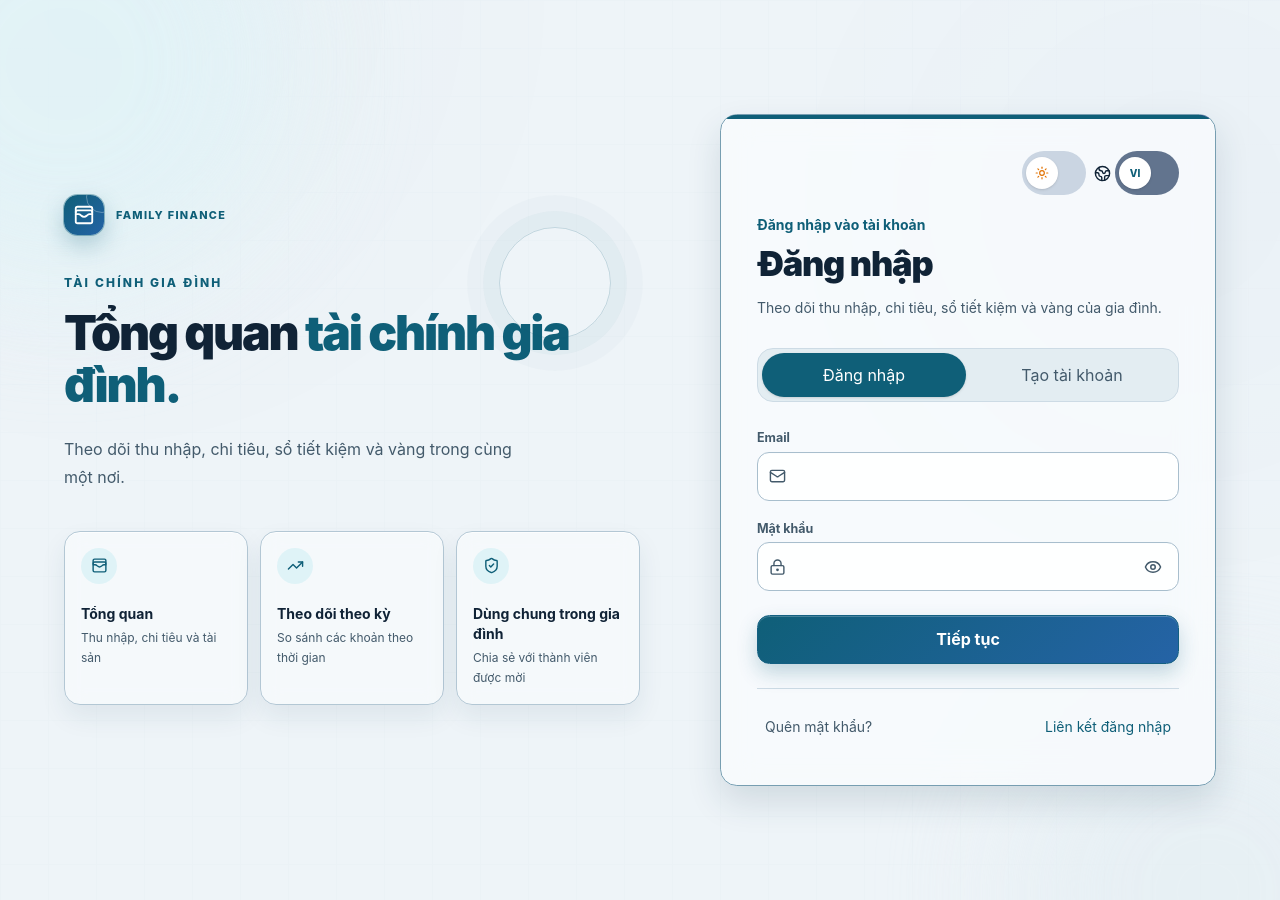
Scenario: xác thực tài khoản › dịch lỗi đăng nhập và luôn mở lại nút sau khi provider từ chối
In the field labelled "Email": (968, 476) [757,452,1179,501], type "demo@example.com"
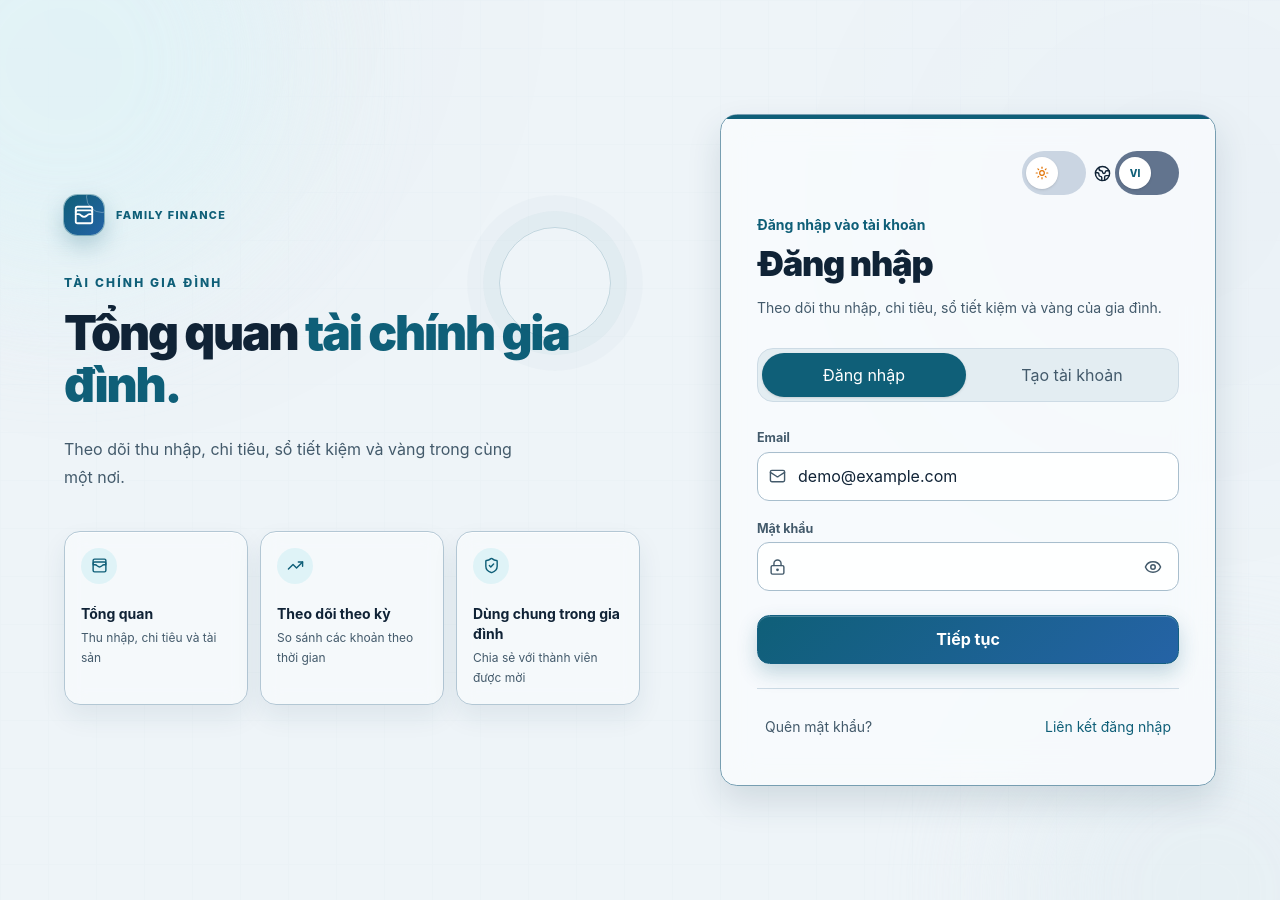
In the password field labelled "Mật khẩu": (968, 567) [757,542,1179,591], type "secret123"
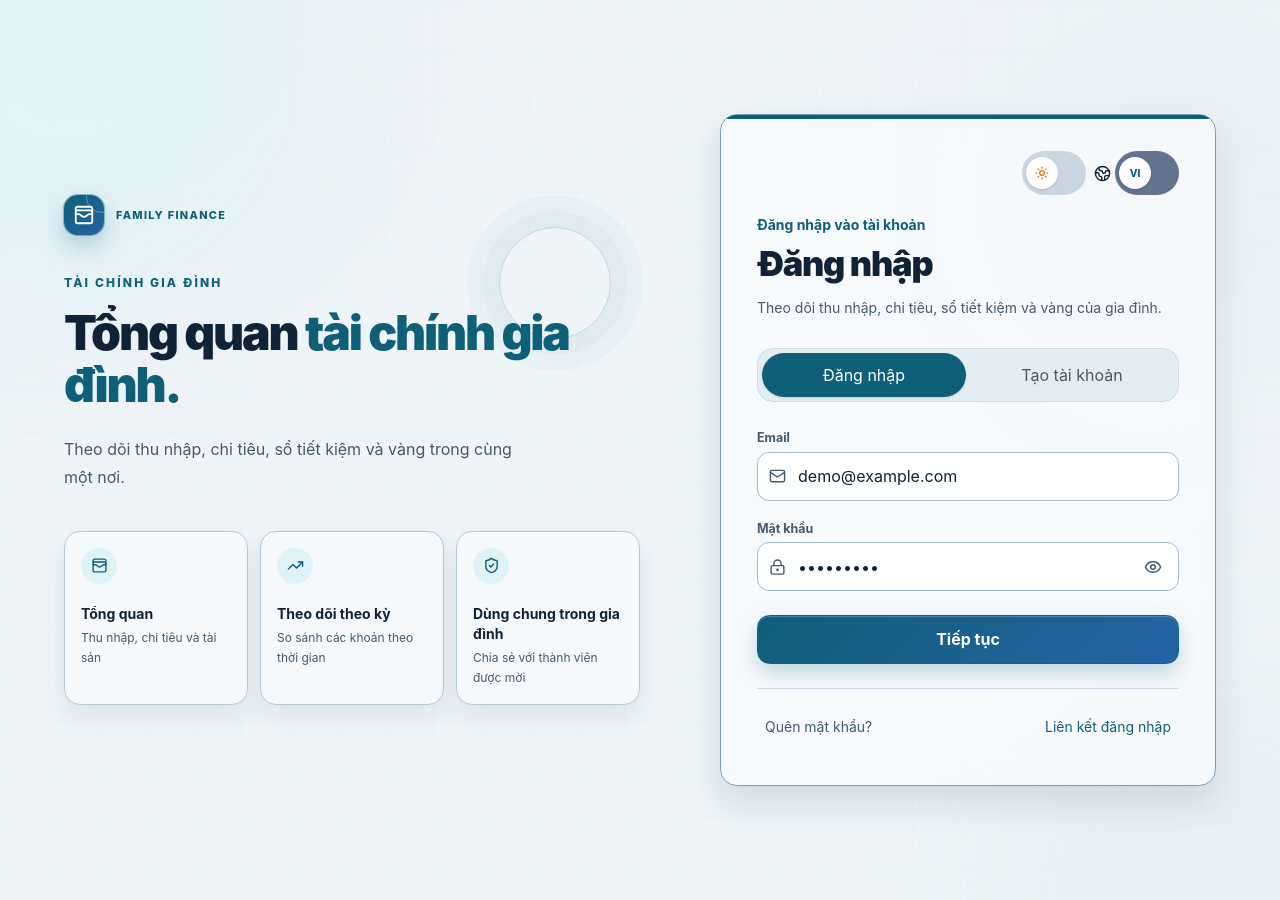
Submit the form "Tiếp tục", box [757,430,1179,664]
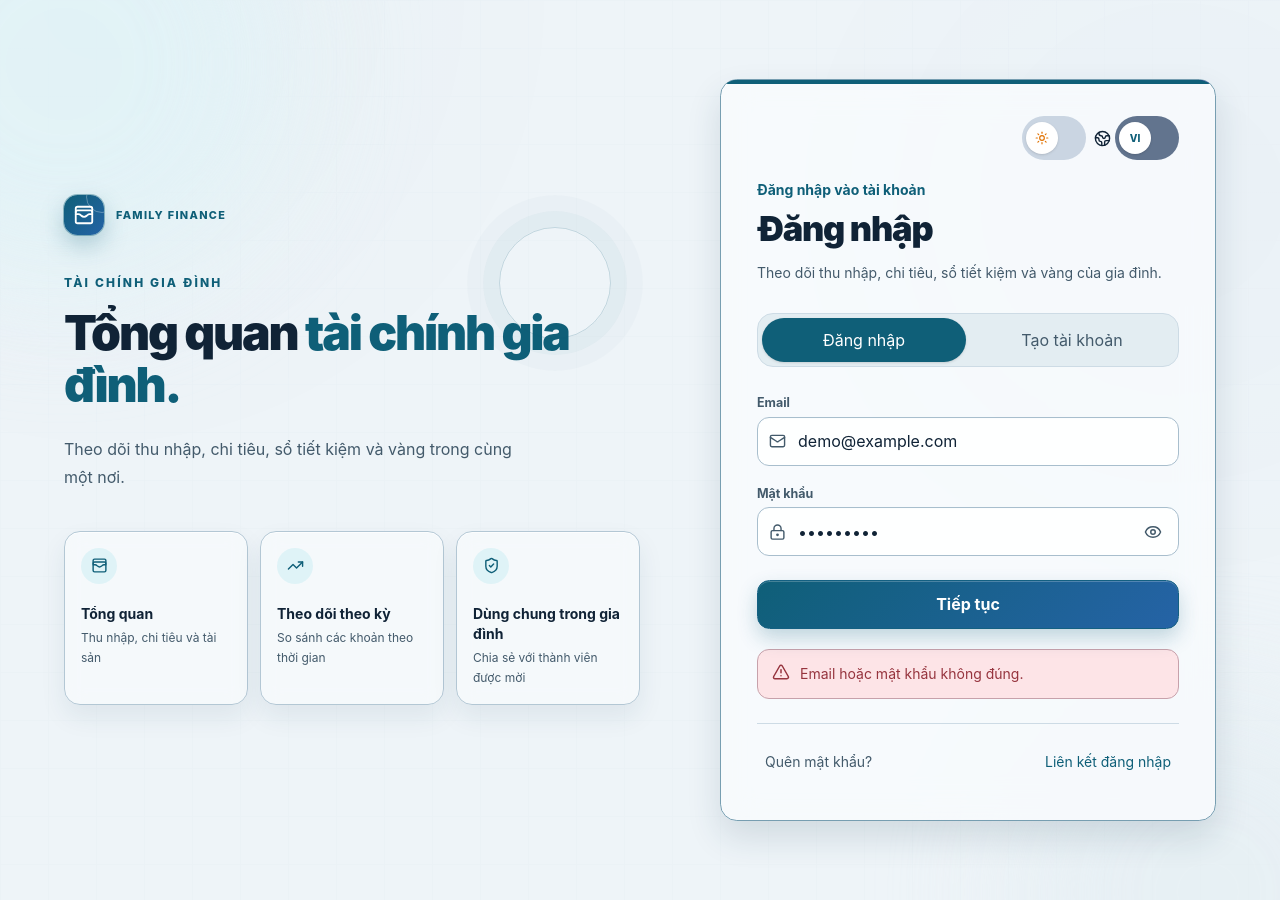
Expected: the button "Tiếp tục" is enabled, [757,580,1179,629]
Expected: the message reads "Email hoặc mật khẩu không đúng.", [800,665,1024,682]
